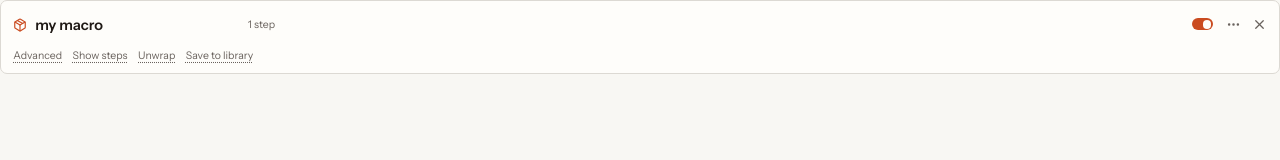
<MacroCard /> › Escape reverts an uncommitted rename
Type " 2" into the field named "macro name".
click(136, 25); type(" 2")  # box [31,12,241,38]
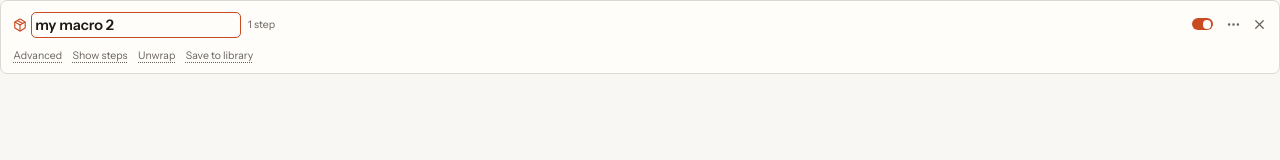
Press Escape
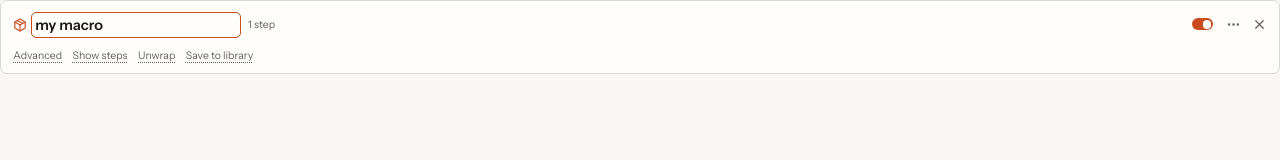
Now the field named "macro name" holds "my macro", box [31,12,241,38]
